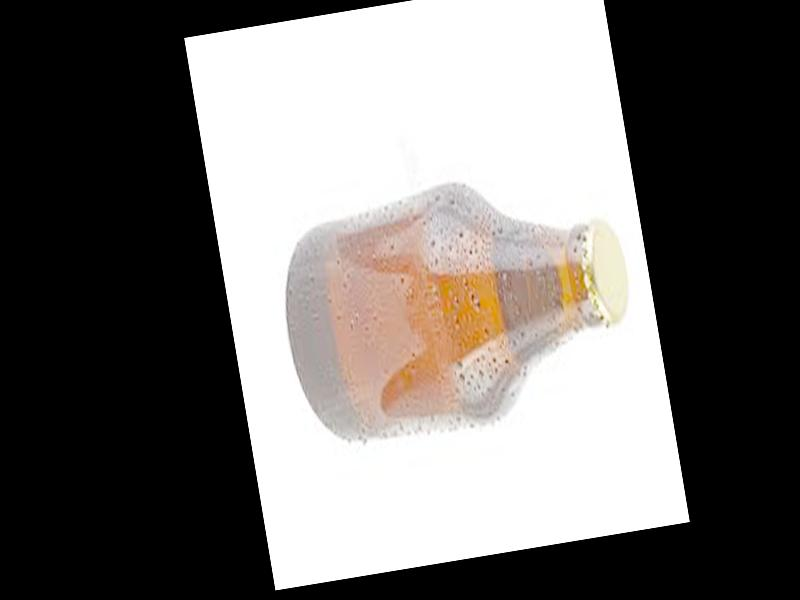Beer: (272, 175, 646, 448)
